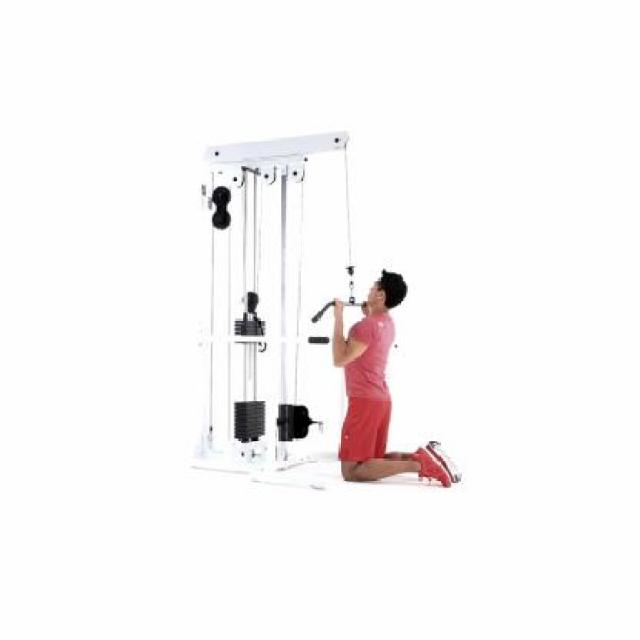Lat Pull Down: (188, 117, 468, 495)
